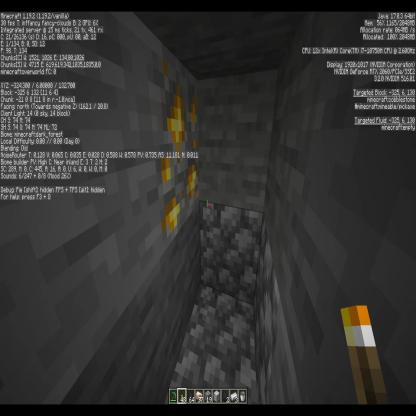gold ore: (143, 42, 200, 262)
